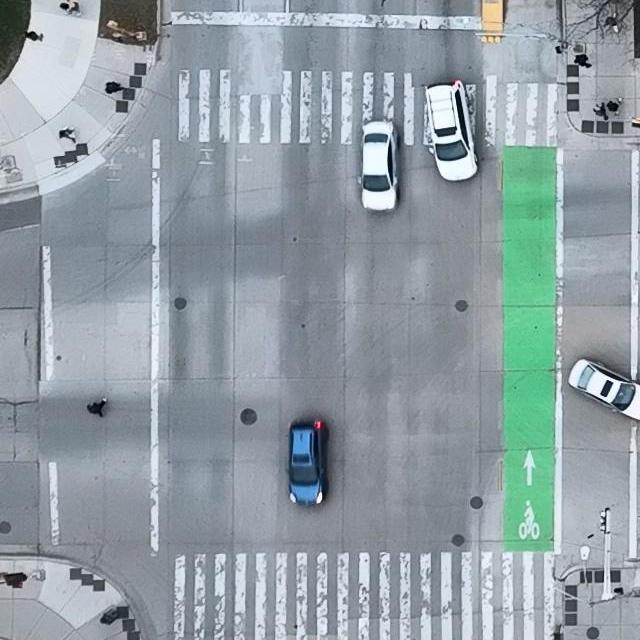car: (424, 78, 479, 182), (567, 359, 640, 420), (286, 417, 328, 505), (358, 121, 399, 210)
